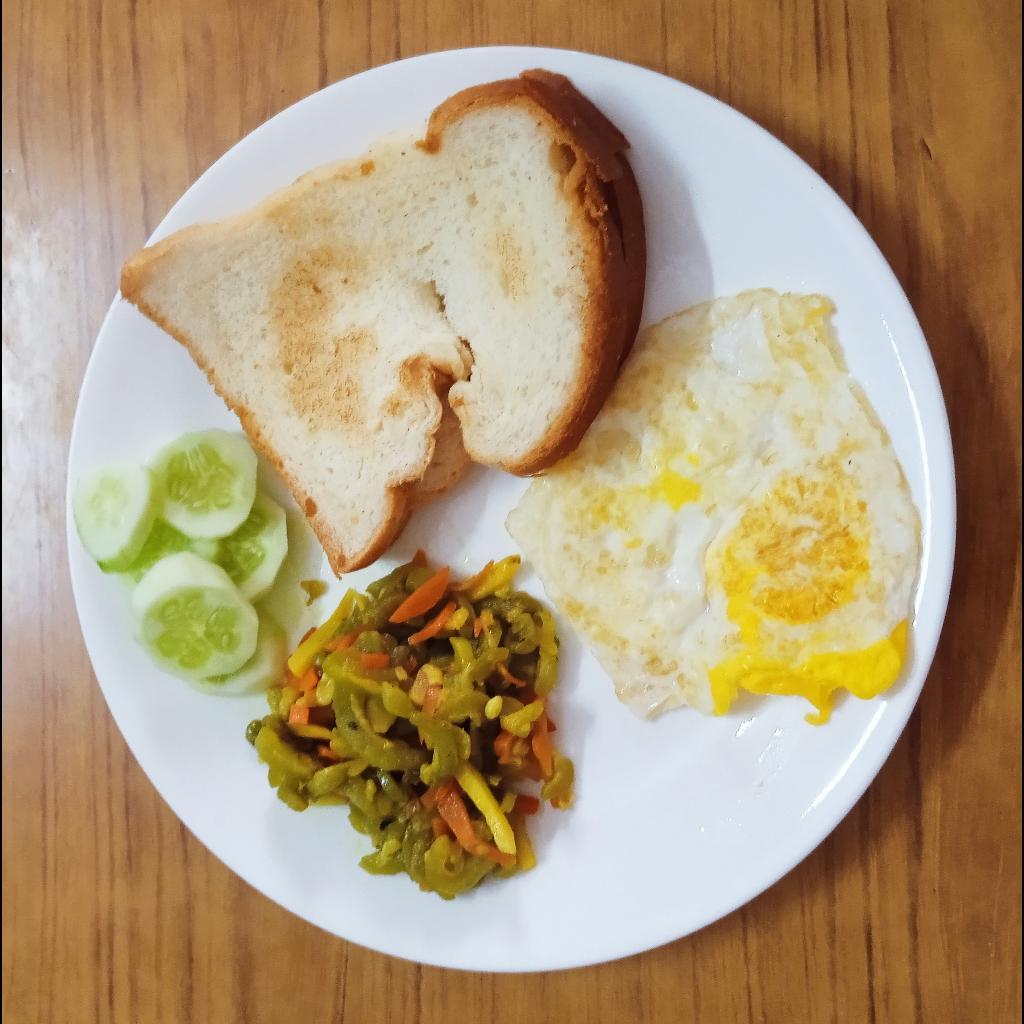bread: (117, 68, 648, 576)
cucumber: (69, 428, 292, 694)
egg-poached: (503, 286, 925, 730)
vegetable: (247, 542, 577, 898)
